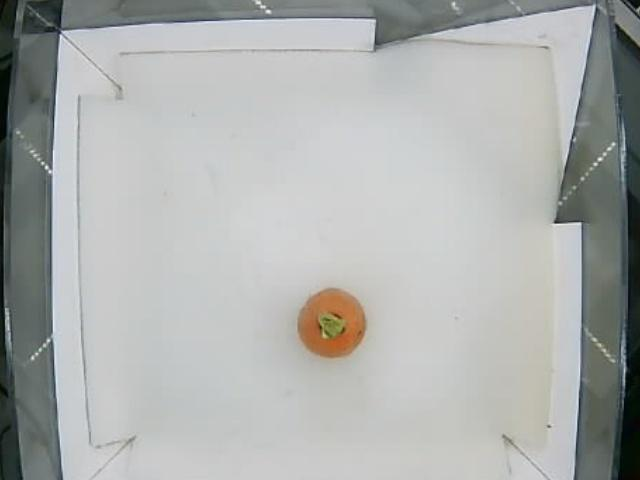Carrot: (297, 287, 364, 356)
